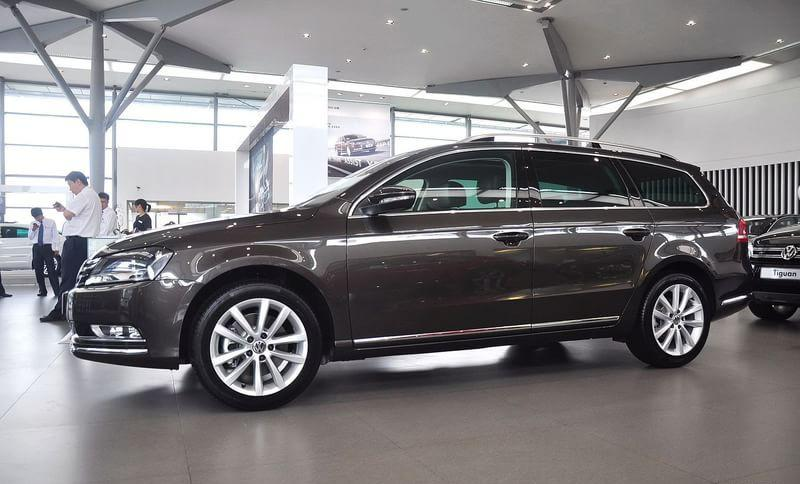Wagon: (60, 130, 755, 412)
